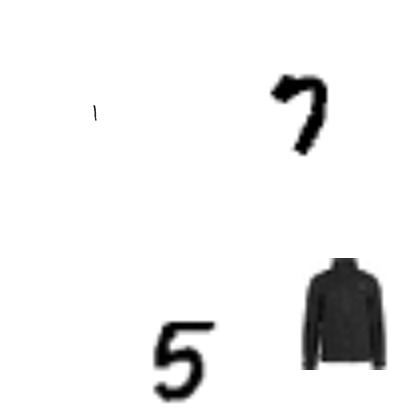1: (84, 101, 106, 123)
5: (122, 302, 234, 414)
7: (247, 47, 359, 159)
Coat: (286, 258, 398, 370)
